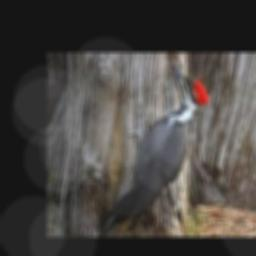Woodpecker: (102, 61, 210, 234)
